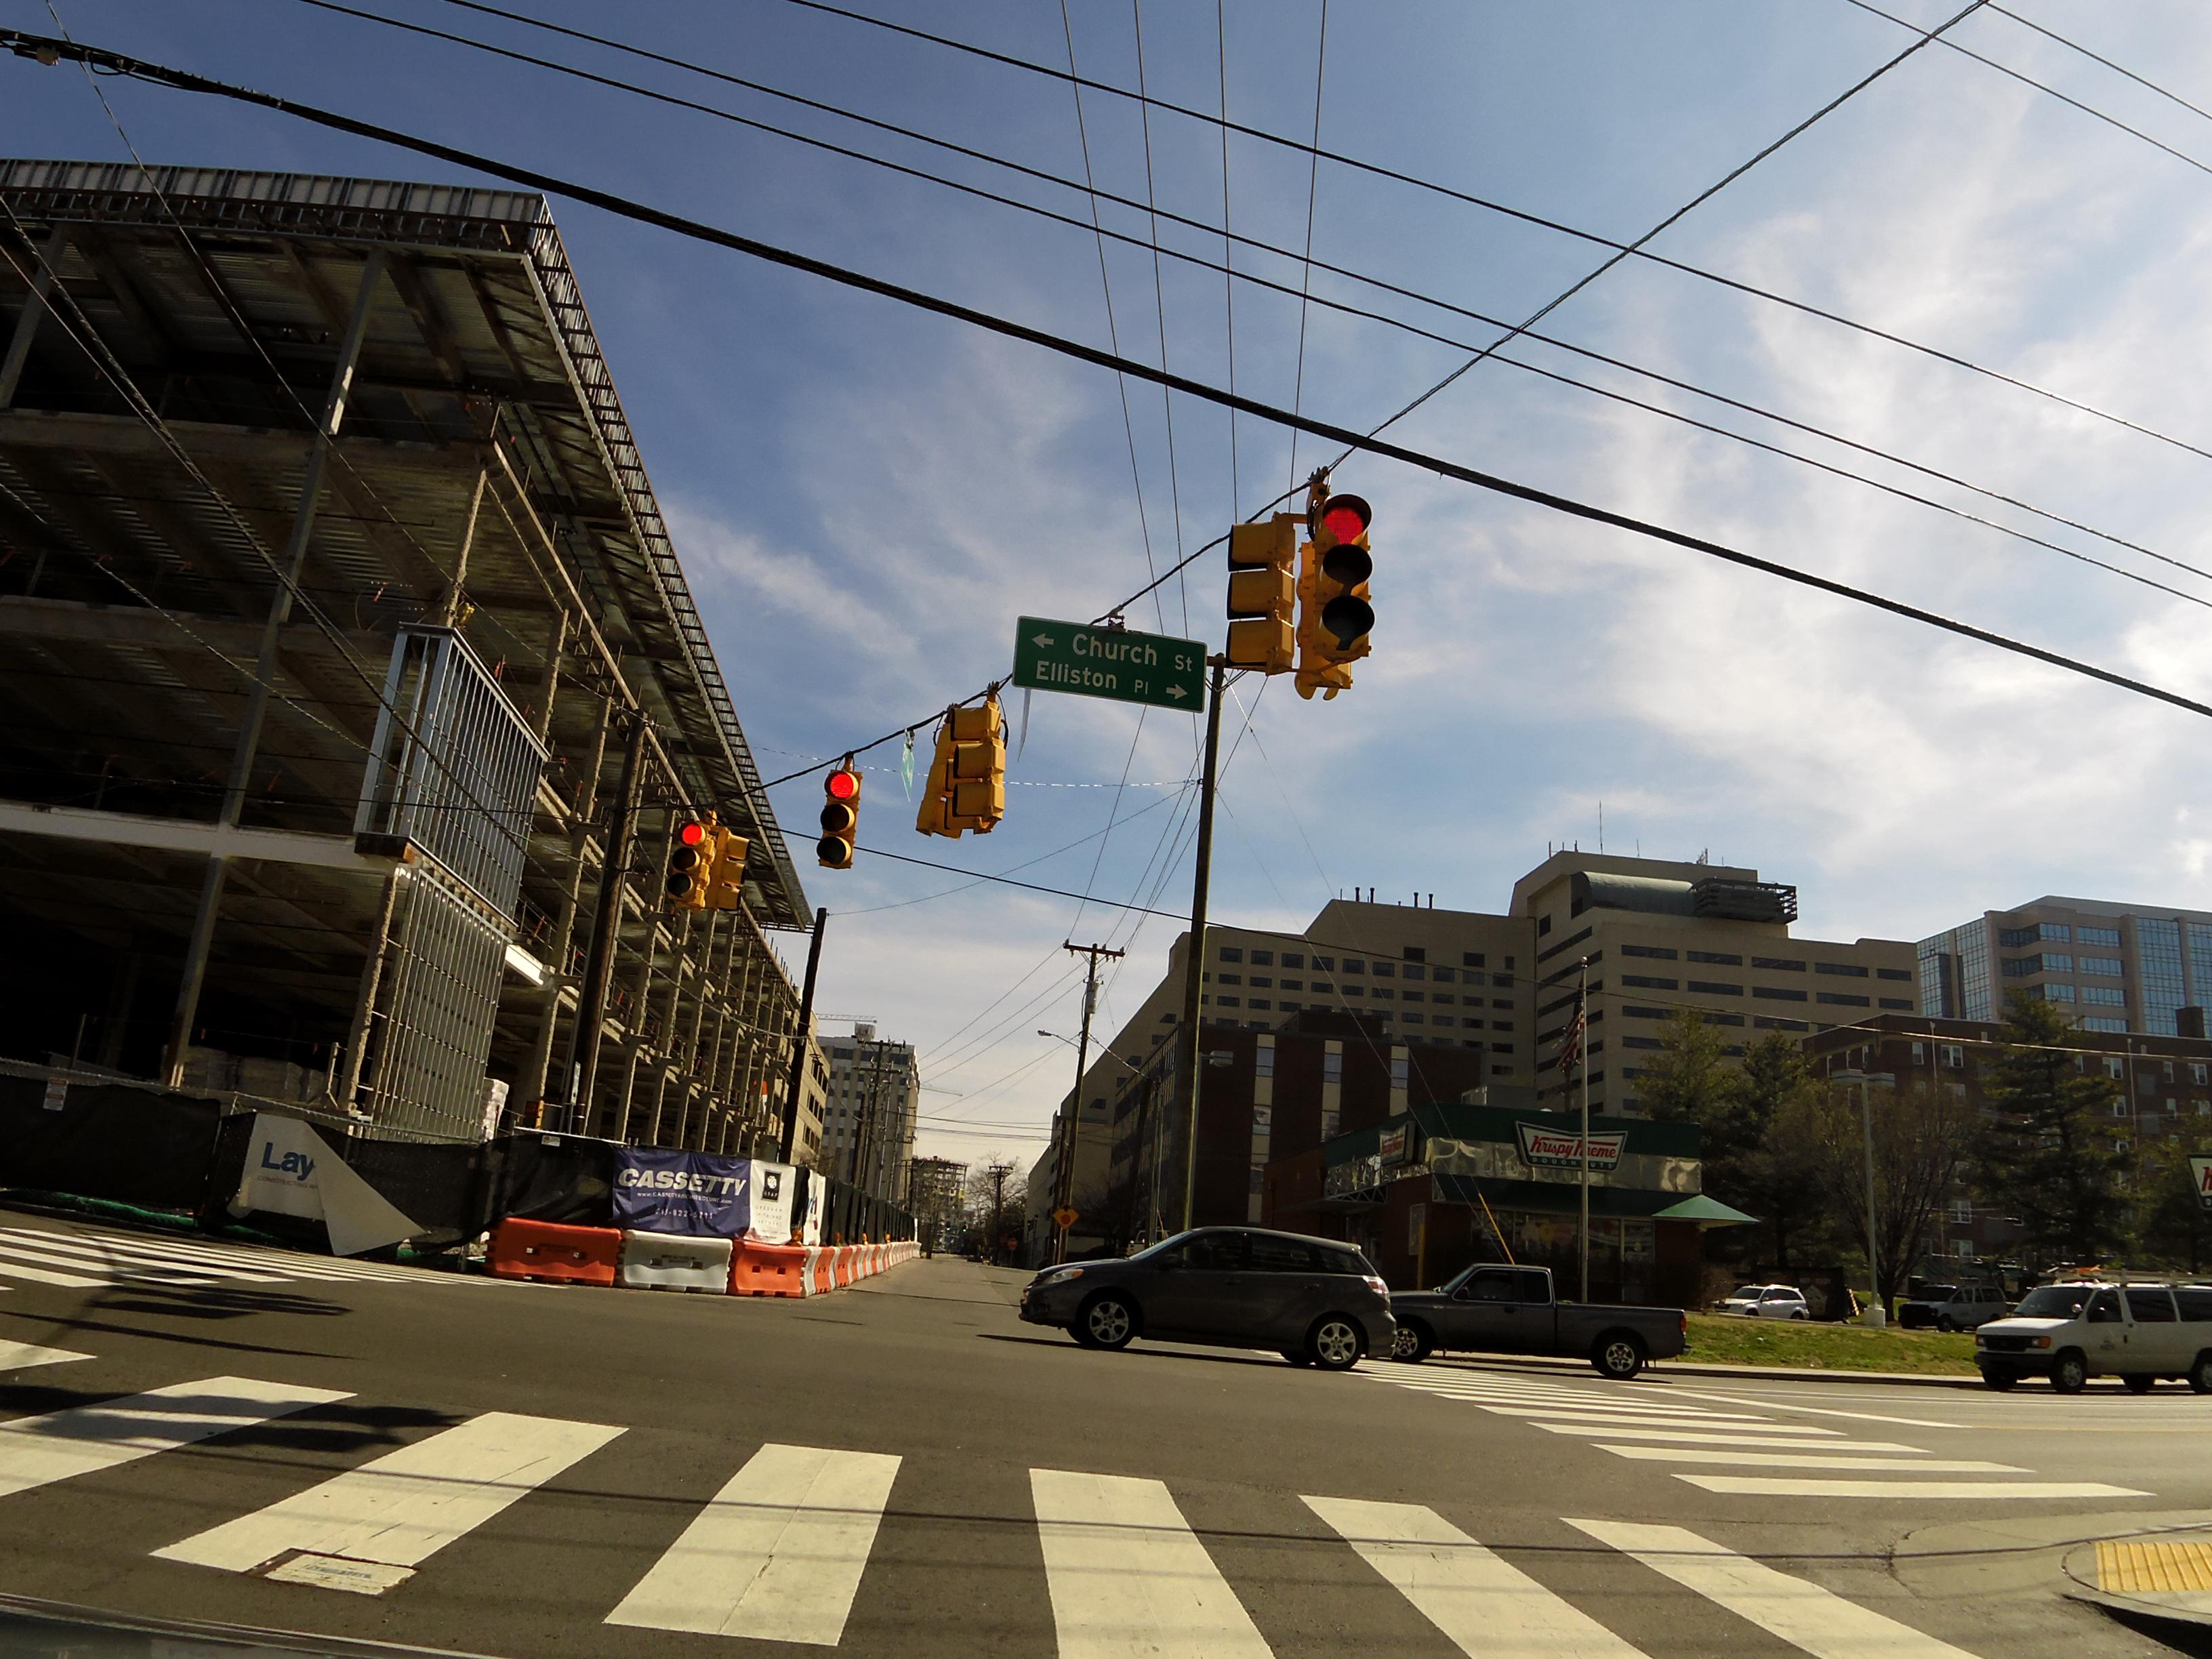vinyl banner: (230, 1089, 446, 1262), (611, 1133, 812, 1258), (796, 1162, 834, 1244)
